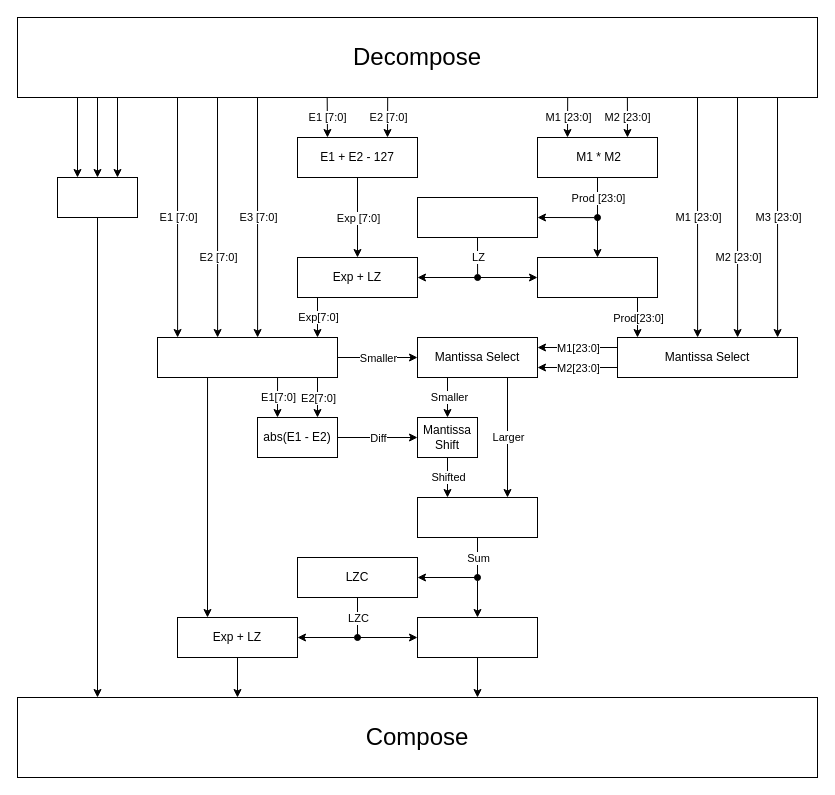
The diagram is 835 pixels wide and 795 high, and some of its shapes have lost their labels. Each missing label, with the box of its shape:
Adder: (416, 496, 538, 538)
Exponent Select: (156, 336, 338, 378)
Prod << LZ: (536, 256, 658, 298)
Prod[23] == 0: (416, 196, 538, 238)
Shift: (416, 616, 538, 658)
Sign Calc: (56, 176, 138, 218)
